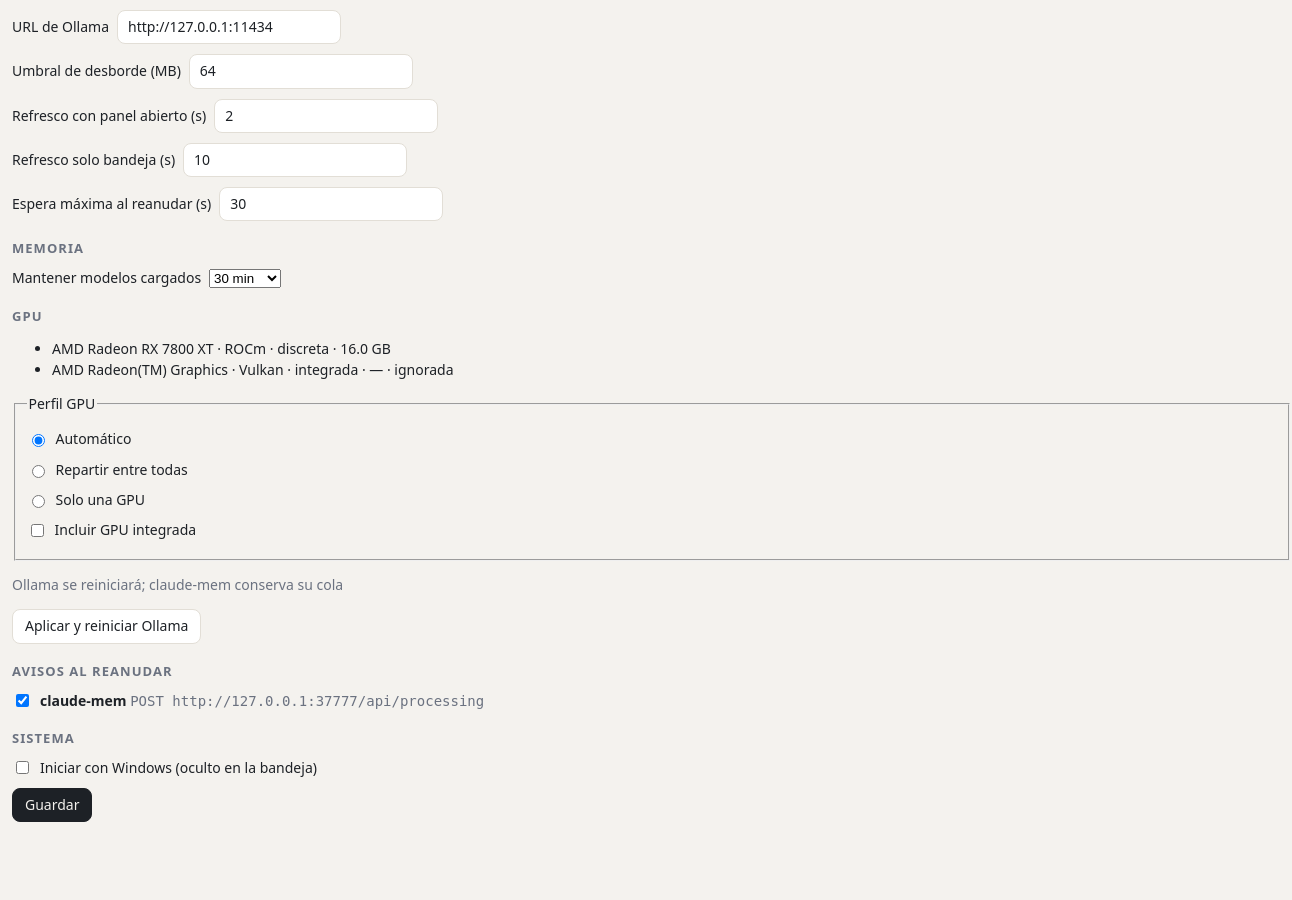
Test: si recargar el perfil tras un fallo falla también muestra ambos errores
This screenshot has width=1292, height=900.
Click the button "Aplicar y reiniciar Ollama" at (107, 627), box [12,610,201,644]
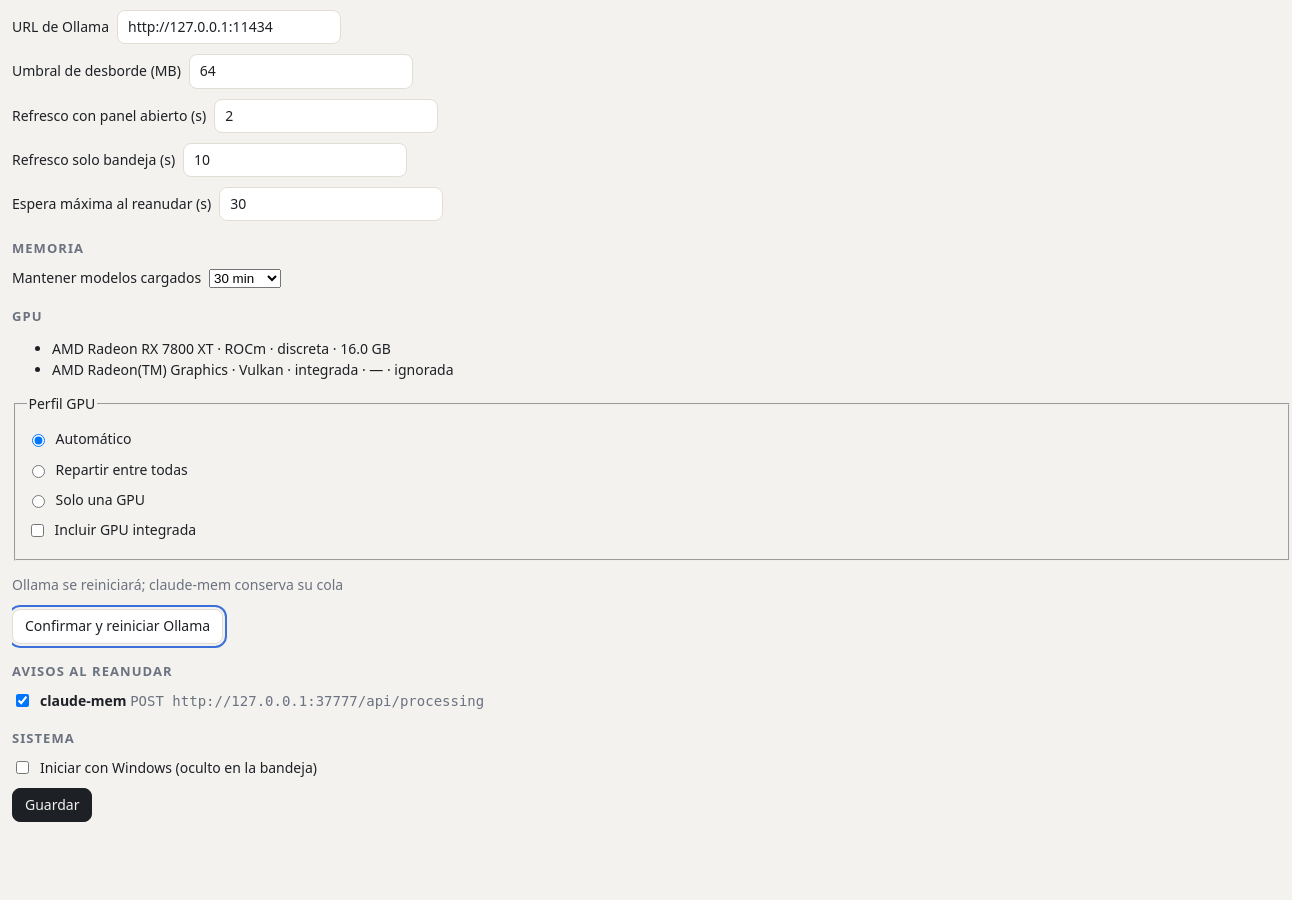
Click the button "Confirmar y reiniciar Ollama" at (118, 627), box [12,610,223,644]
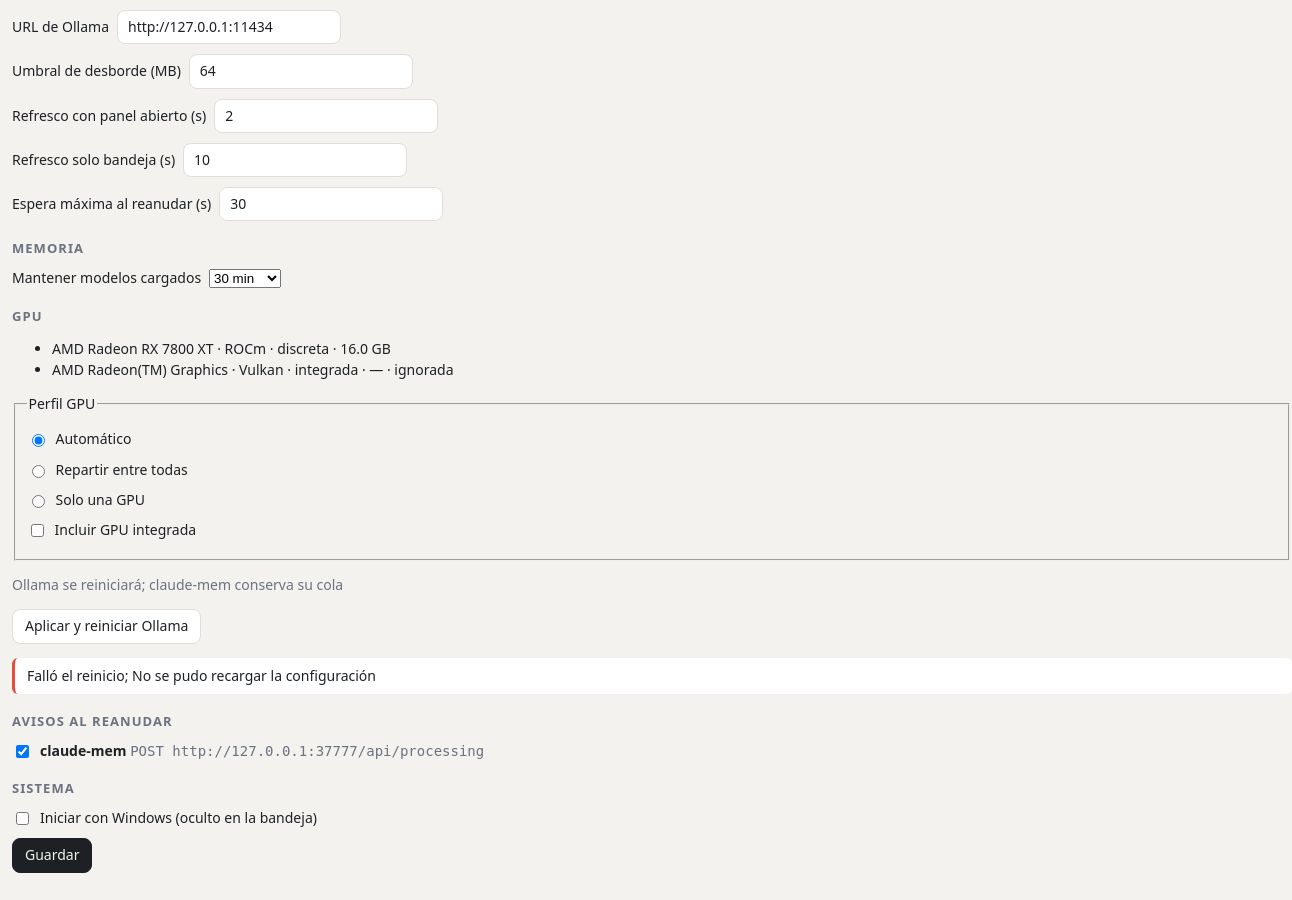
expect the text "Falló el reinicio; No se pudo recargar la configuración" is shown: met, box [12,658,1291,694]
